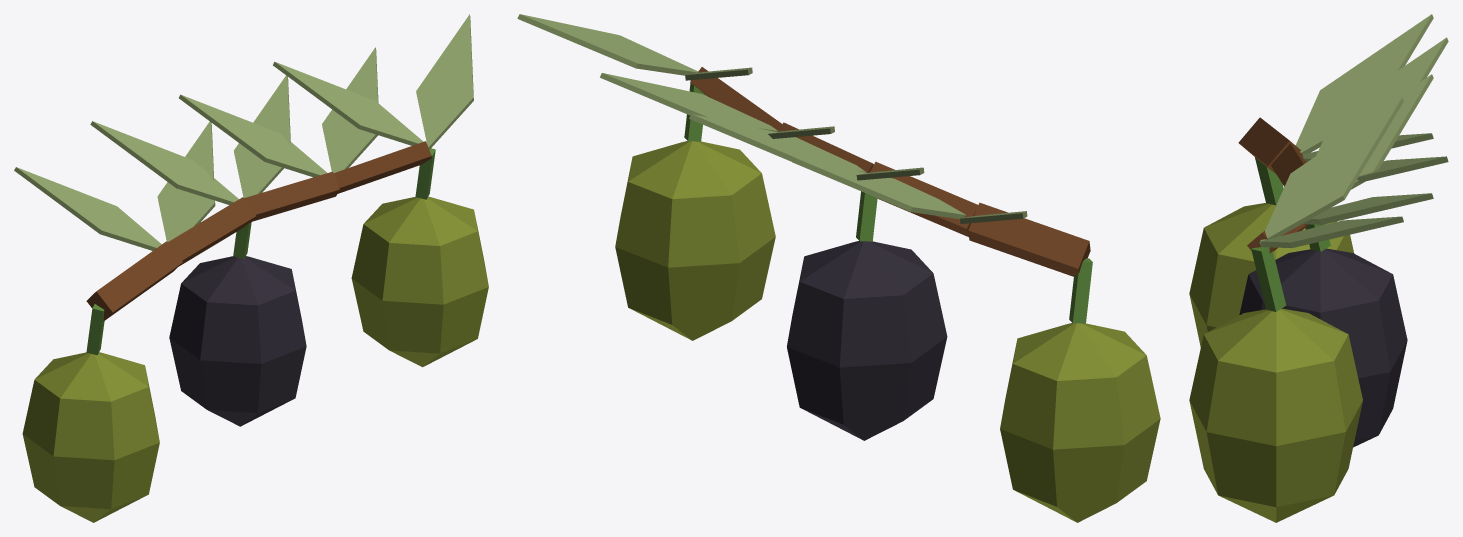
File: olive.glb
3 views of the same model, side by side, from view 1: azimuth 30°, elevation 25°; view 2: azimuth 150°, elevation 25°; view 3: azimuth 270°, elevation 25° (orthographic). The views are drawn at different scales.
Visible parts, largest first — view 1: olive; view 2: olive; view 3: olive.
Part boxes in pixels (x1,y1,x2,y2): olive: (14,14,488,522); olive: (517,14,1160,522); olive: (1189,14,1448,522).
Size of the model in its own units: 0.4702 by 0.342 by 0.1746.
Materials: 1 (1 with a texture image).
